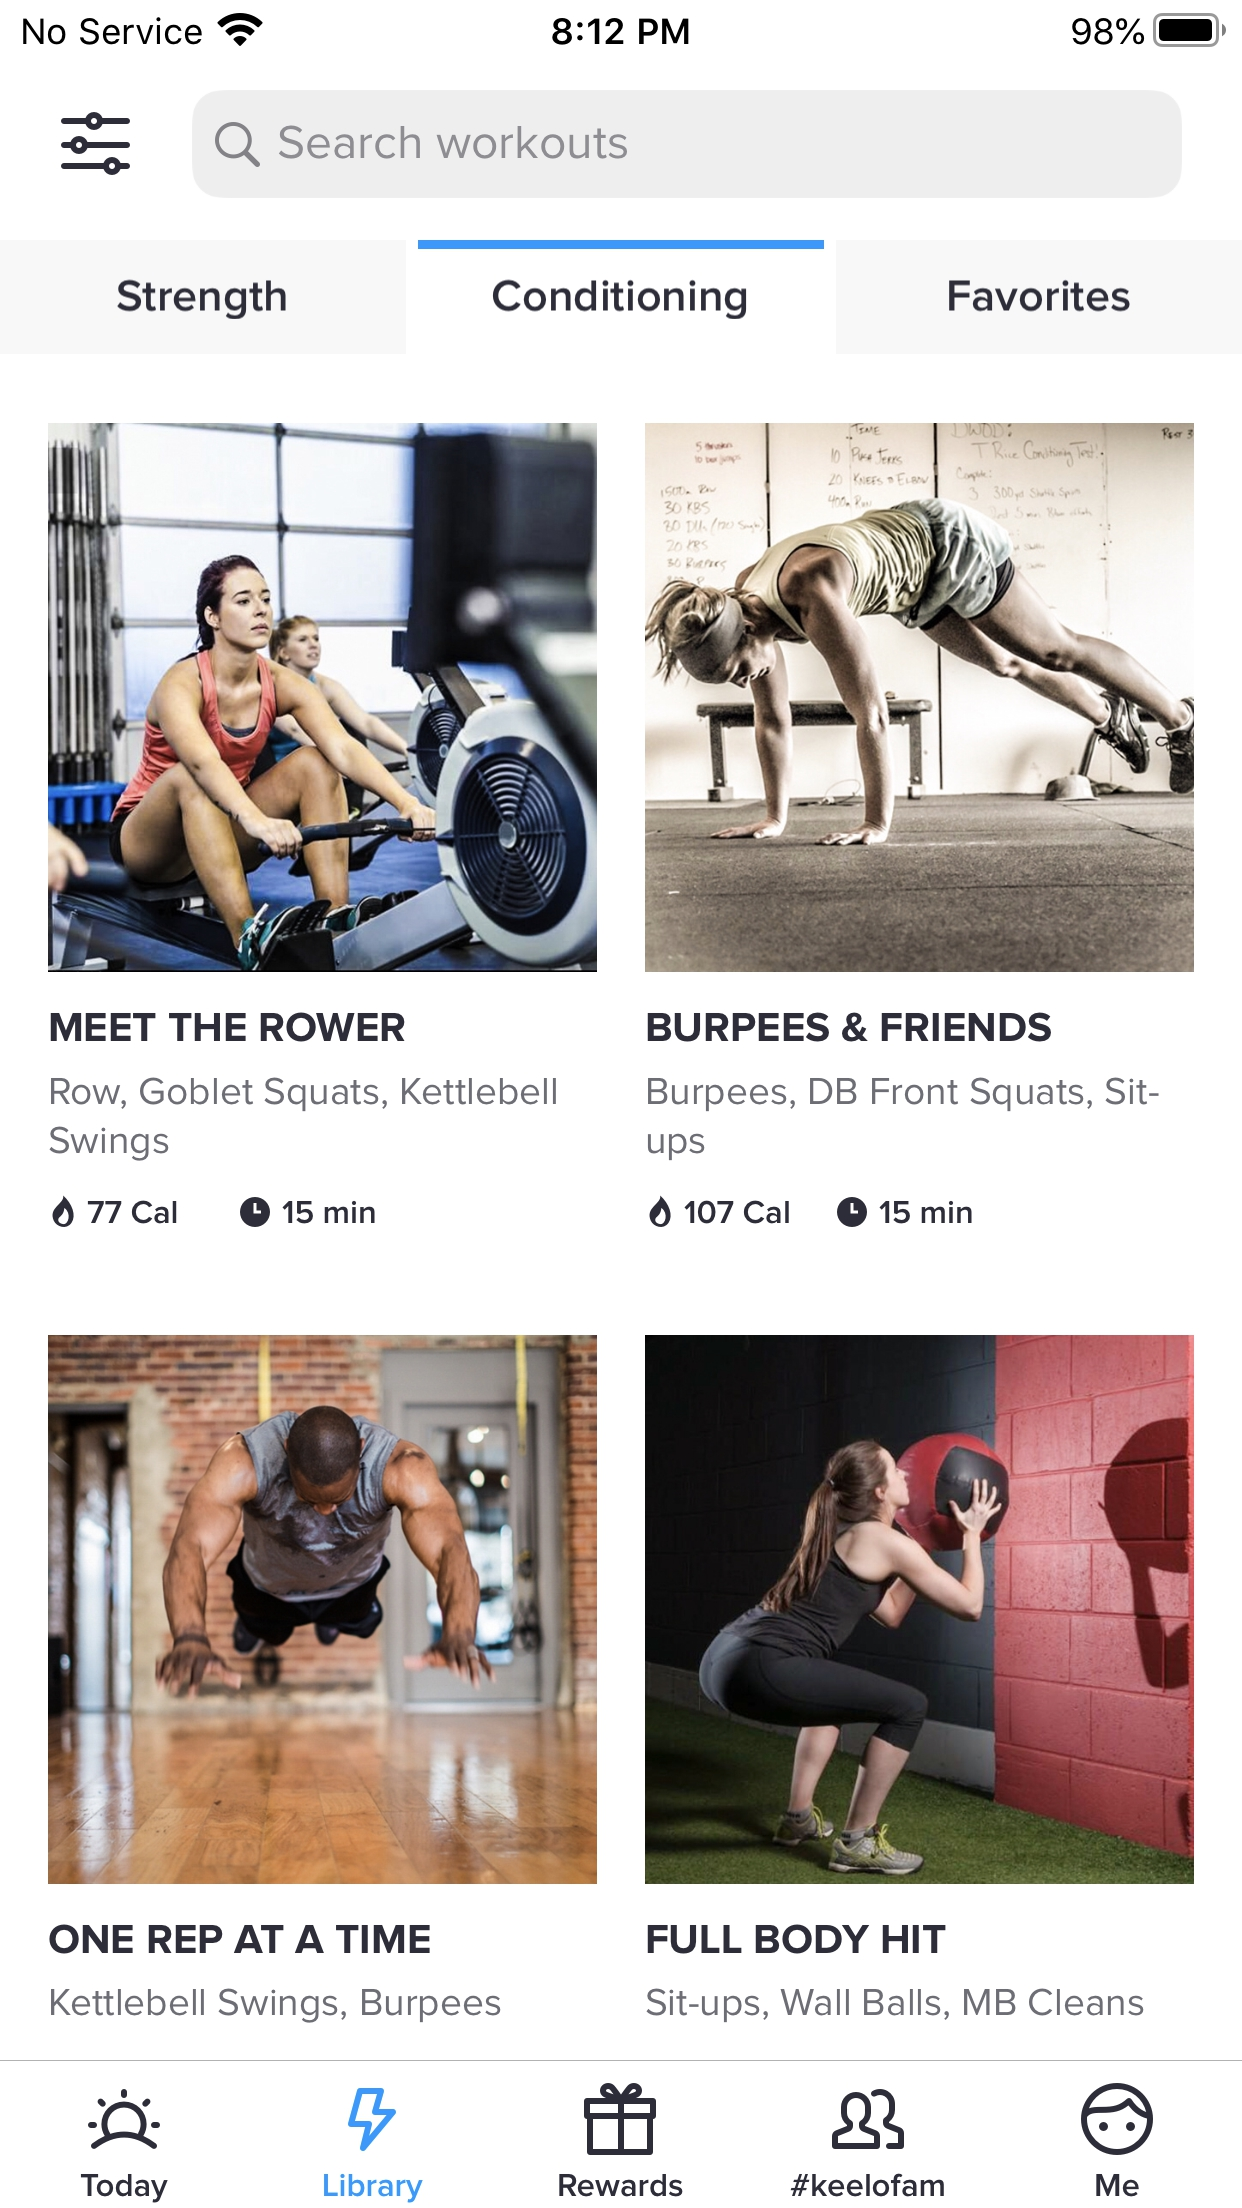EditText: (193, 91, 1181, 199)
Icon: (584, 2084, 657, 2155), (1081, 2084, 1153, 2155), (62, 114, 130, 176), (833, 2090, 904, 2149), (89, 2090, 161, 2149), (215, 123, 261, 168), (837, 1197, 867, 1228), (241, 1197, 271, 1227), (649, 1195, 672, 1228), (53, 1195, 74, 1227)
Image: (49, 425, 597, 974), (645, 425, 1193, 974), (645, 1335, 1193, 1883), (49, 1335, 597, 1883), (349, 2088, 397, 2150)
Text: (648, 1077, 1159, 1112), (52, 1077, 557, 1112), (646, 1988, 1143, 2023), (52, 1988, 502, 2023), (648, 1011, 1051, 1043), (281, 127, 628, 161), (50, 1924, 431, 1955), (52, 1013, 406, 1042), (493, 281, 748, 320), (648, 1924, 946, 1955), (118, 281, 287, 320), (949, 281, 1130, 312), (50, 1127, 170, 1162), (792, 2173, 943, 2197), (325, 2175, 425, 2203), (560, 2175, 684, 2197), (684, 1200, 789, 1225), (82, 2175, 168, 2203), (284, 1201, 376, 1225), (880, 1201, 972, 1225), (89, 1200, 177, 1224), (648, 1133, 705, 1162), (1096, 2175, 1139, 2197)
UpperTaskBar: (2, 2, 1242, 49)
